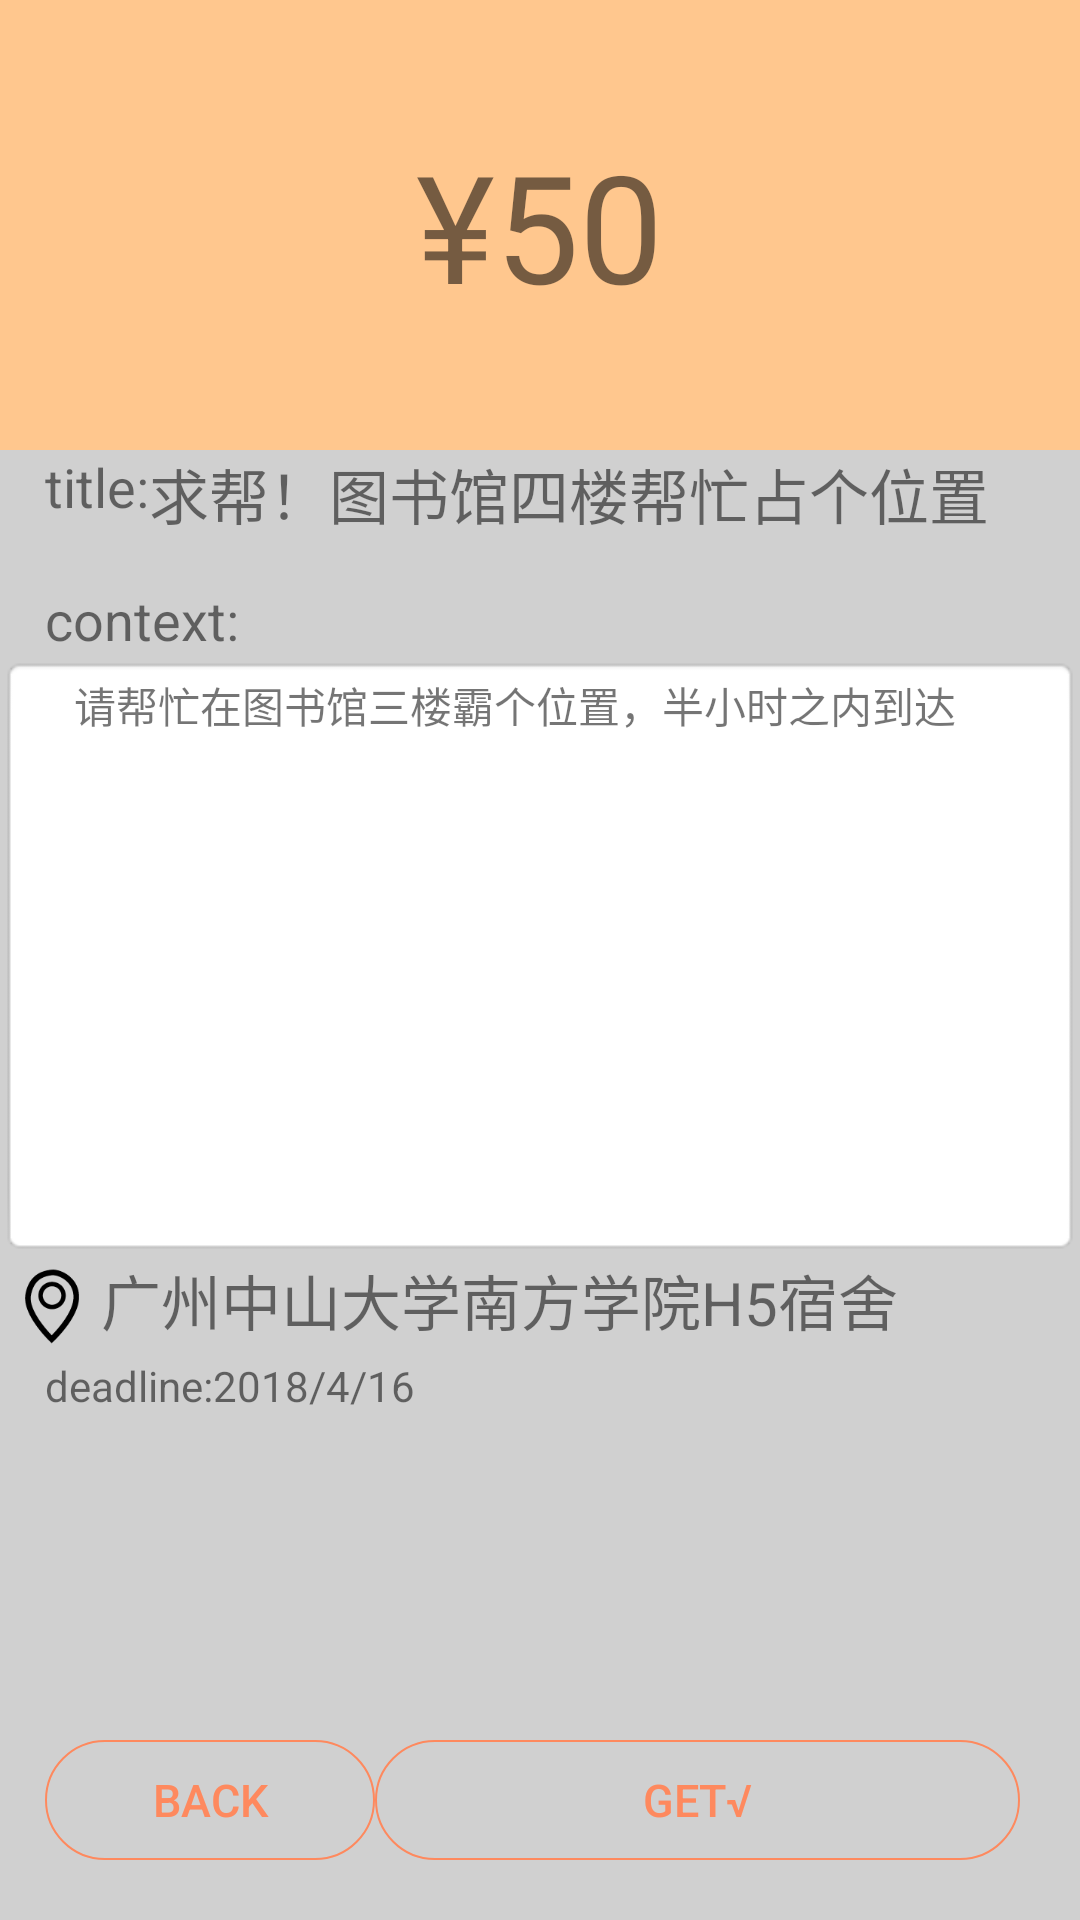

Where to tap for icons on this 1080px×1920px app screen, as point (x, y):
map: point (52, 1306)
